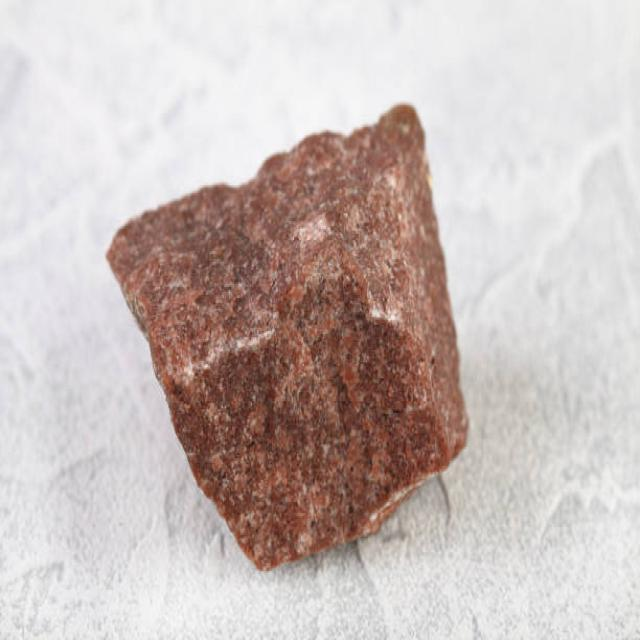Metamorphic: (112, 99, 475, 565)
